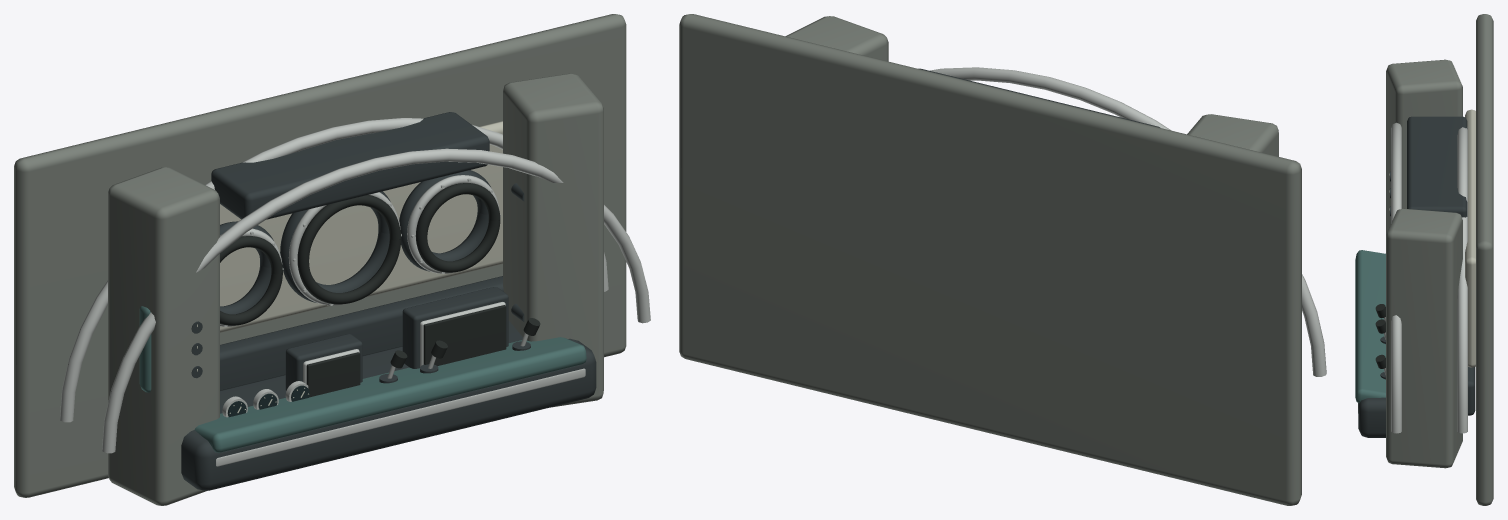
The model's file is cabina.glb.
The picture shows the model from 3 angles, left to right: view 1: azimuth 30°, elevation 25°; view 2: azimuth 150°, elevation 25°; view 3: azimuth 270°, elevation 25°; orthographic projection. The views are drawn at different scales.
Parts seen in each view (by area): view 1: Esmalte de casco gris oliva, Anodizado gris, Aluminio cepillado, Sellos de goma, Panel de navegación, Paramentos marfil, Cubiertas negras; view 2: Esmalte de casco gris oliva, Aluminio cepillado; view 3: Esmalte de casco gris oliva, Anodizado gris, Aluminio cepillado, Panel de navegación, Paramentos marfil, Sellos de goma.
Boxes of the visible parts, x1=… form: Esmalte de casco gris oliva: x1=14, y1=14, x2=626, y2=505; Anodizado gris: x1=181, y1=112, x2=596, y2=490; Aluminio cepillado: x1=60, y1=118, x2=650, y2=466; Sellos de goma: x1=220, y1=183, x2=540, y2=397; Panel de navegación: x1=139, y1=306, x2=586, y2=452; Paramentos marfil: x1=220, y1=121, x2=502, y2=332; Cubiertas negras: x1=227, y1=385, x2=309, y2=417; Esmalte de casco gris oliva: x1=679, y1=14, x2=1301, y2=505; Aluminio cepillado: x1=930, y1=67, x2=1326, y2=376; Esmalte de casco gris oliva: x1=1386, y1=14, x2=1493, y2=505; Anodizado gris: x1=1358, y1=116, x2=1475, y2=437; Aluminio cepillado: x1=1358, y1=122, x2=1467, y2=433; Panel de navegación: x1=1355, y1=250, x2=1385, y2=403; Paramentos marfil: x1=1465, y1=109, x2=1475, y2=367; Sellos de goma: x1=1375, y1=304, x2=1385, y2=368.
Bounding box in the file's own units: 3.75 × 1.99 × 0.9397.
